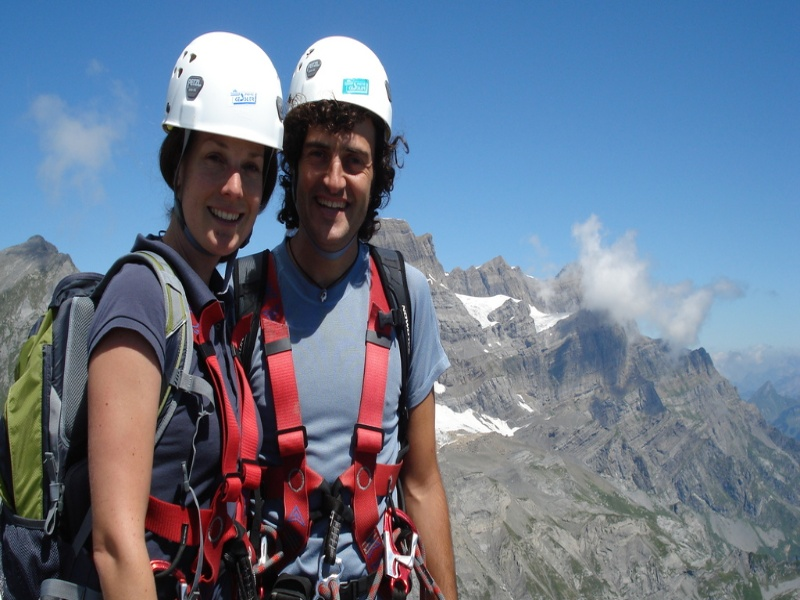Baret: (166, 30, 286, 149), (287, 36, 396, 131)
